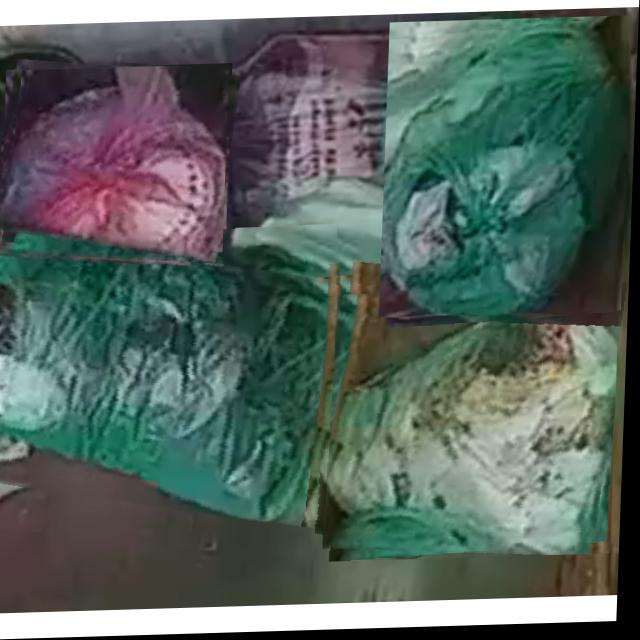general_trashbag: (0, 238, 348, 523), (330, 282, 619, 558), (384, 26, 626, 318)
other_trashbag: (0, 68, 227, 263)
